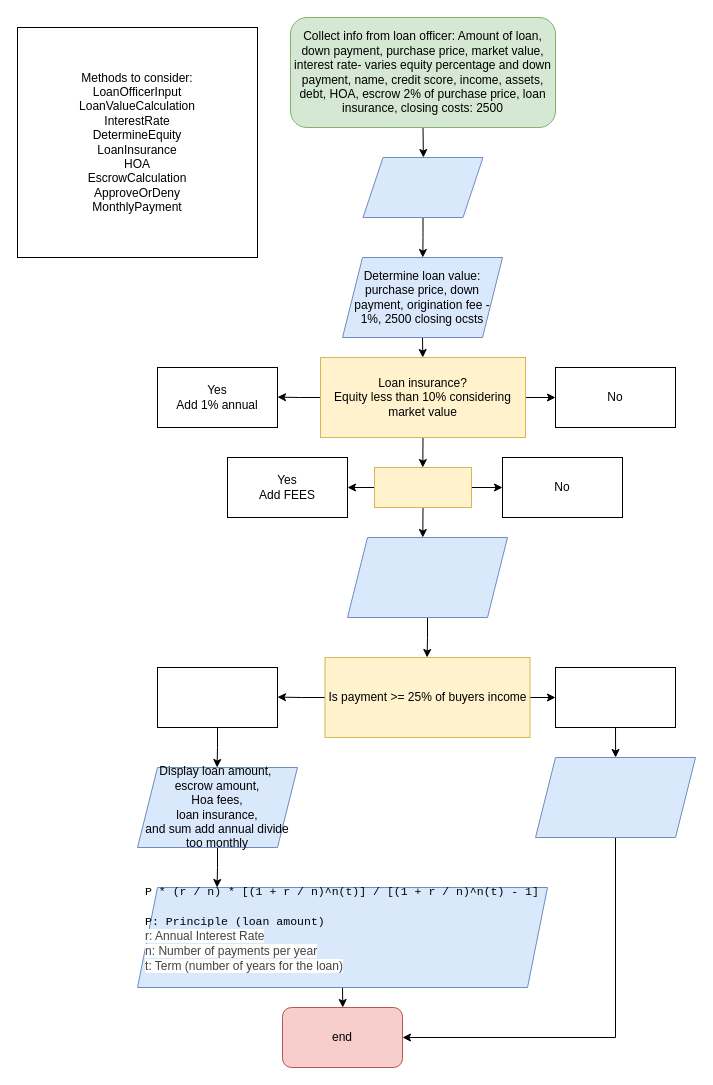
Some shapes in this 713 by 1085 pixel diagram are drawn without their labels. The box of each missing label's shape, as (x1, y1, x2, y2) in pixels:
Approve: (156, 666, 278, 728)
Deny: (554, 666, 676, 728)
Determine escrow 2% added annually: (346, 536, 508, 618)
Determine if 15 or 30 year loan: (362, 156, 483, 218)
HOA?: (374, 466, 472, 508)
Recommend Placing more money down or Buying a more affordable home: (534, 756, 696, 838)
